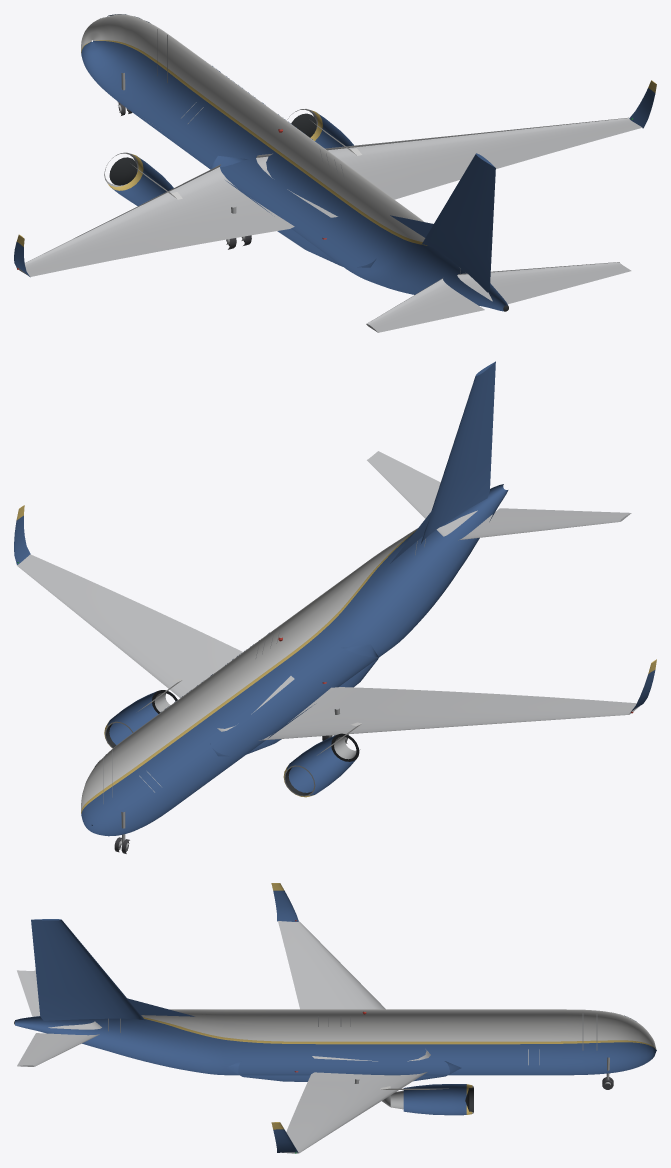
File: jet737.glb
3 views of the same model, one above another, from view 1: azimuth 30°, elevation 25°; view 2: azimuth 150°, elevation 25°; view 3: azimuth 270°, elevation 25° (orthographic). The views are drawn at different scales.
Visible parts, largest first — view 1: body; view 2: body; view 3: body.
Boxes of the visible parts, box(x1,y1,x2,y2) form: body: box(14, 14, 656, 332); body: box(14, 361, 656, 853); body: box(14, 883, 656, 1153).
Size of the model in its own units: 34.95 by 11.55 by 39.65.
